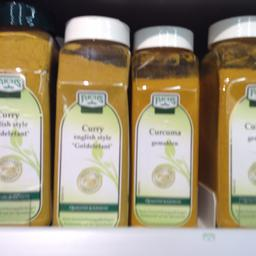spices: (50, 12, 128, 226), (129, 24, 201, 227), (0, 0, 50, 223), (202, 14, 255, 223)
